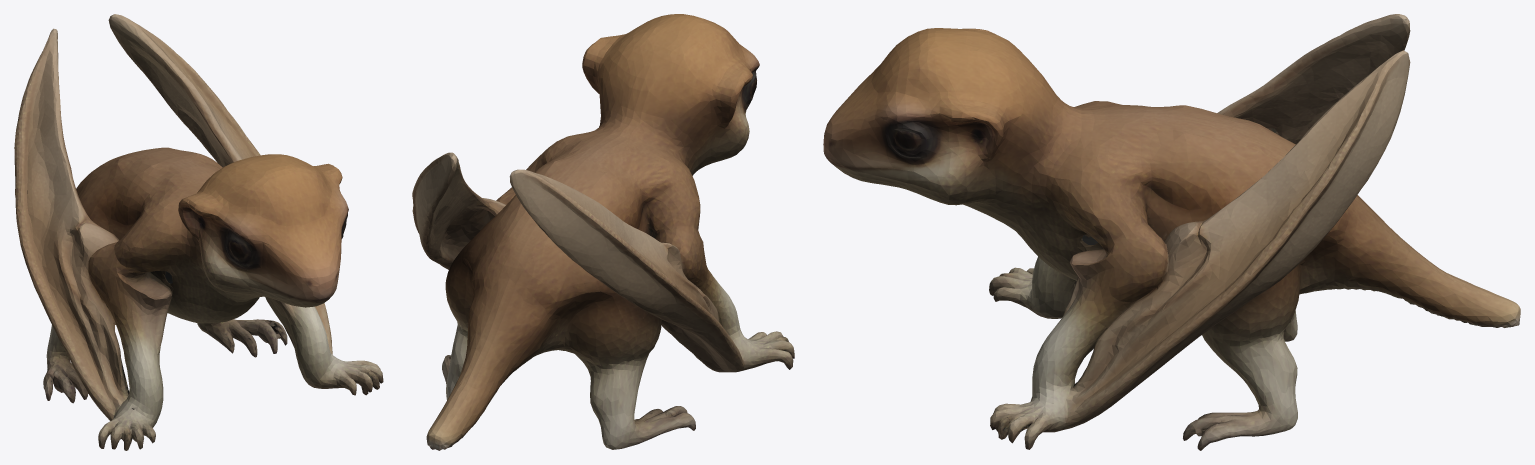
The picture shows the model from 3 angles, left to right: view 1: azimuth 30°, elevation 25°; view 2: azimuth 150°, elevation 25°; view 3: azimuth 270°, elevation 25°; orthographic projection. The views are drawn at different scales.
Parts seen in each view (by area): view 1: world; view 2: world; view 3: world.
Part boxes in pixels (x1,y1,x2,y2): world: (14,14,383,450); world: (412,14,794,450); world: (823,14,1520,450).
Bounding box in the file's own units: 0.3648 × 0.3628 × 0.65.
Materials: 1 (1 with a texture image).
